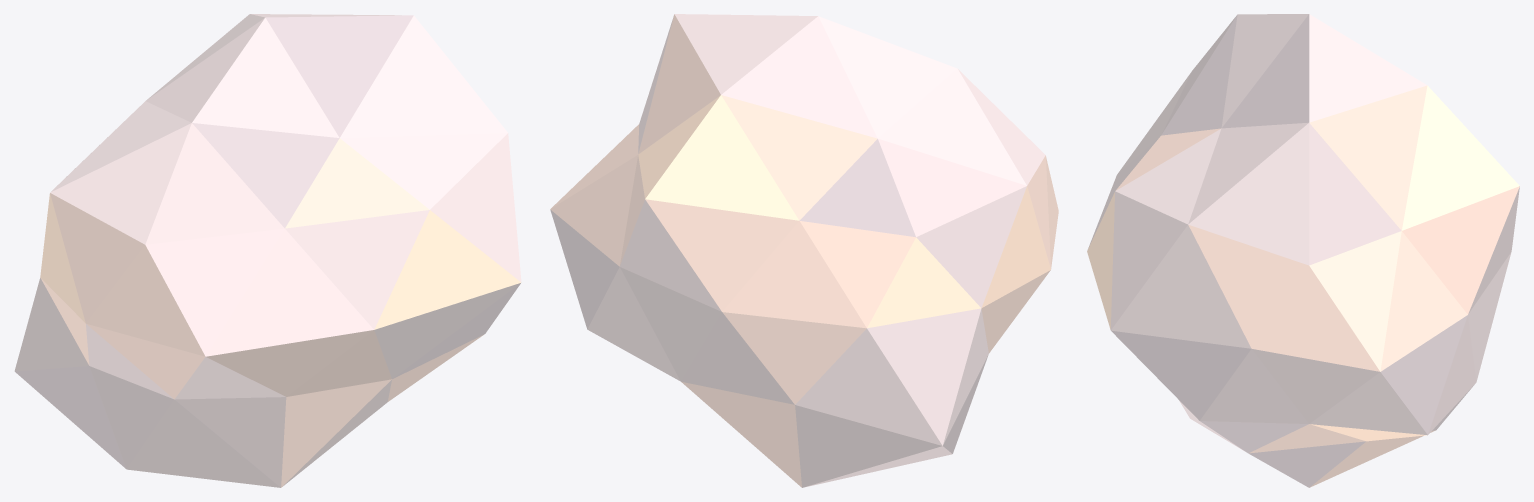
The model's file is orbit-meteor.glb.
The picture shows the model from 3 angles, left to right: view 1: azimuth 30°, elevation 25°; view 2: azimuth 150°, elevation 25°; view 3: azimuth 270°, elevation 25°; orthographic projection. The views are drawn at different scales.
Parts seen in each view (by area): view 1: orbit-meteor; view 2: orbit-meteor; view 3: orbit-meteor.
Part boxes in pixels (x1=…): orbit-meteor: x1=14, y1=14, x2=521, y2=487; orbit-meteor: x1=550, y1=14, x2=1058, y2=487; orbit-meteor: x1=1087, y1=14, x2=1519, y2=487.
Bounding box in the file's own units: 1.86 × 1.8 × 1.49.
